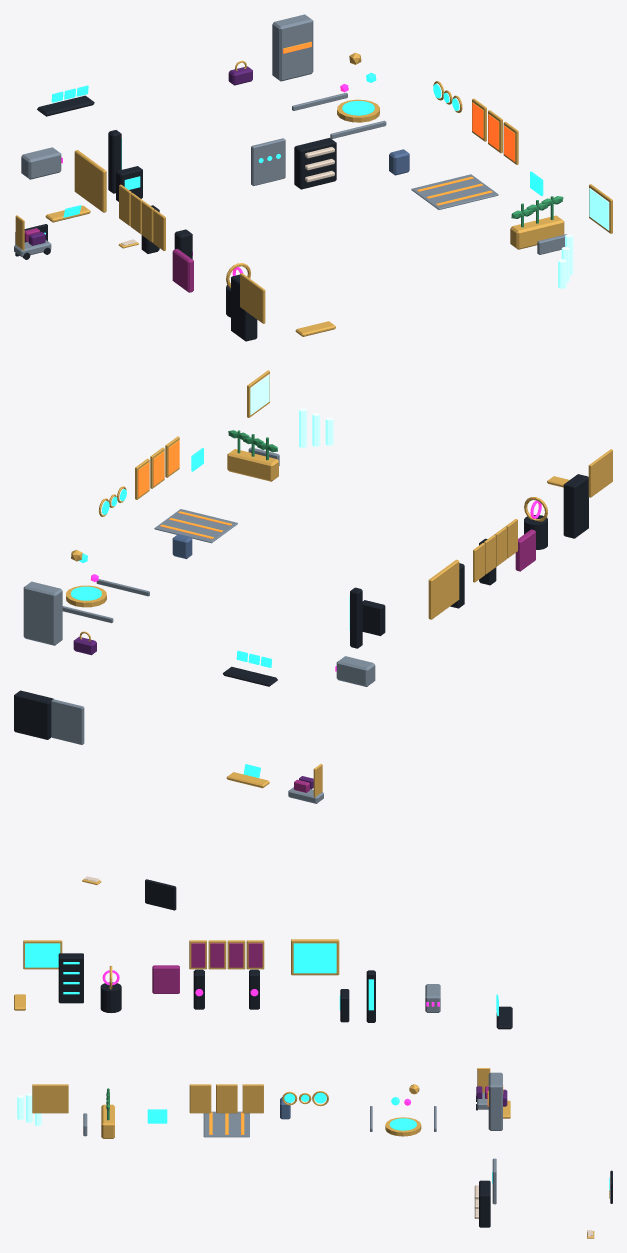
File: final_interior_pack.glb
3 renders of one model, top to bottom at view 1: azimuth 30°, elevation 25°; view 2: azimuth 150°, elevation 25°; view 3: azimuth 270°, elevation 25°, orthographic. The views are drawn at different scales.
Parts seen in each view (by area): view 1: FLOOR2_SERVICE_EQUIPMENT_VISUAL, FLOOR3_SECURITY_AND_SUPPORT_VISUAL, ROOM_305_REINFORCED_MODULE_VISUAL, ROOM_306_ACOUSTIC_ILLUSION_MODULE_VISUAL, ROOM_302_TECHNOLOGY_MODULE_VISUAL, ROOM_308_CONTAINMENT_MODULE_VISUAL, ROOM_303_BOTANICAL_MODULE_VISUAL, ROOM_301_COLD_CLIMATE_MODULE_VISUAL, ROOM_309_GRAVITY_COSMIC_MODULE_VISUAL, ROOM_310_HIGH_SECURITY_MODULE_VISUAL, ROOM_304_LUXURY_FLEXIBLE_MODULE_VISUAL, ROOM_307_WEATHER_INSTRUMENTS_MODULE_VISUAL; view 2: FLOOR2_SERVICE_EQUIPMENT_VISUAL, FLOOR3_SECURITY_AND_SUPPORT_VISUAL, ROOM_305_REINFORCED_MODULE_VISUAL, ROOM_302_TECHNOLOGY_MODULE_VISUAL, ROOM_308_CONTAINMENT_MODULE_VISUAL, ROOM_306_ACOUSTIC_ILLUSION_MODULE_VISUAL, ROOM_303_BOTANICAL_MODULE_VISUAL, ROOM_301_COLD_CLIMATE_MODULE_VISUAL, ROOM_310_HIGH_SECURITY_MODULE_VISUAL, ROOM_309_GRAVITY_COSMIC_MODULE_VISUAL, ROOM_304_LUXURY_FLEXIBLE_MODULE_VISUAL, HOTEL_AMBIENT_PROPS_VISUAL (+1 smaller); view 3: ROOM_305_REINFORCED_MODULE_VISUAL, ROOM_306_ACOUSTIC_ILLUSION_MODULE_VISUAL, ROOM_302_TECHNOLOGY_MODULE_VISUAL, ROOM_308_CONTAINMENT_MODULE_VISUAL, ROOM_301_COLD_CLIMATE_MODULE_VISUAL, FLOOR2_SERVICE_EQUIPMENT_VISUAL, ROOM_304_LUXURY_FLEXIBLE_MODULE_VISUAL, FLOOR3_SECURITY_AND_SUPPORT_VISUAL, ROOM_310_HIGH_SECURITY_MODULE_VISUAL, ROOM_309_GRAVITY_COSMIC_MODULE_VISUAL, ROOM_303_BOTANICAL_MODULE_VISUAL, ROOM_307_WEATHER_INSTRUMENTS_MODULE_VISUAL.
Part boxes in pixels (box(x1,y1,x2,y2)): FLOOR2_SERVICE_EQUIPMENT_VISUAL: box(14, 138, 336, 259); FLOOR3_SECURITY_AND_SUPPORT_VISUAL: box(37, 14, 313, 116); ROOM_305_REINFORCED_MODULE_VISUAL: box(411, 98, 518, 209); ROOM_306_ACOUSTIC_ILLUSION_MODULE_VISUAL: box(119, 184, 192, 259); ROOM_302_TECHNOLOGY_MODULE_VISUAL: box(231, 273, 335, 341); ROOM_308_CONTAINMENT_MODULE_VISUAL: box(74, 150, 142, 212); ROOM_303_BOTANICAL_MODULE_VISUAL: box(510, 171, 564, 249); ROOM_301_COLD_CLIMATE_MODULE_VISUAL: box(537, 184, 612, 288); ROOM_309_GRAVITY_COSMIC_MODULE_VISUAL: box(292, 52, 386, 138); ROOM_310_HIGH_SECURITY_MODULE_VISUAL: box(21, 130, 121, 193); ROOM_304_LUXURY_FLEXIBLE_MODULE_VISUAL: box(172, 248, 250, 317); ROOM_307_WEATHER_INSTRUMENTS_MODULE_VISUAL: box(389, 81, 462, 175); FLOOR2_SERVICE_EQUIPMENT_VISUAL: box(14, 690, 323, 803); FLOOR3_SECURITY_AND_SUPPORT_VISUAL: box(23, 581, 277, 686); ROOM_305_REINFORCED_MODULE_VISUAL: box(135, 436, 237, 543); ROOM_302_TECHNOLOGY_MODULE_VISUAL: box(547, 449, 612, 538); ROOM_308_CONTAINMENT_MODULE_VISUAL: box(362, 559, 459, 635); ROOM_306_ACOUSTIC_ILLUSION_MODULE_VISUAL: box(450, 519, 517, 608); ROOM_303_BOTANICAL_MODULE_VISUAL: box(191, 430, 278, 481); ROOM_301_COLD_CLIMATE_MODULE_VISUAL: box(247, 370, 333, 465); ROOM_310_HIGH_SECURITY_MODULE_VISUAL: box(335, 587, 375, 686); ROOM_309_GRAVITY_COSMIC_MODULE_VISUAL: box(62, 549, 149, 623); ROOM_304_LUXURY_FLEXIBLE_MODULE_VISUAL: box(515, 497, 547, 571); HOTEL_AMBIENT_PROPS_VISUAL: box(82, 876, 176, 910); ROOM_305_REINFORCED_MODULE_VISUAL: box(189, 1084, 263, 1137); ROOM_306_ACOUSTIC_ILLUSION_MODULE_VISUAL: box(189, 940, 264, 1009); ROOM_302_TECHNOLOGY_MODULE_VISUAL: box(14, 940, 83, 1010); ROOM_308_CONTAINMENT_MODULE_VISUAL: box(291, 939, 349, 1022); ROOM_301_COLD_CLIMATE_MODULE_VISUAL: box(17, 1084, 87, 1136); FLOOR2_SERVICE_EQUIPMENT_VISUAL: box(474, 1068, 510, 1227); ROOM_304_LUXURY_FLEXIBLE_MODULE_VISUAL: box(100, 965, 179, 1012); FLOOR3_SECURITY_AND_SUPPORT_VISUAL: box(487, 994, 512, 1130); ROOM_310_HIGH_SECURITY_MODULE_VISUAL: box(366, 970, 440, 1022); ROOM_309_GRAVITY_COSMIC_MODULE_VISUAL: box(370, 1084, 436, 1136); ROOM_303_BOTANICAL_MODULE_VISUAL: box(101, 1088, 167, 1138); ROOM_307_WEATHER_INSTRUMENTS_MODULE_VISUAL: box(280, 1091, 328, 1119).
Size of the model in its own units: 15.56 by 10.67 by 27.17.
